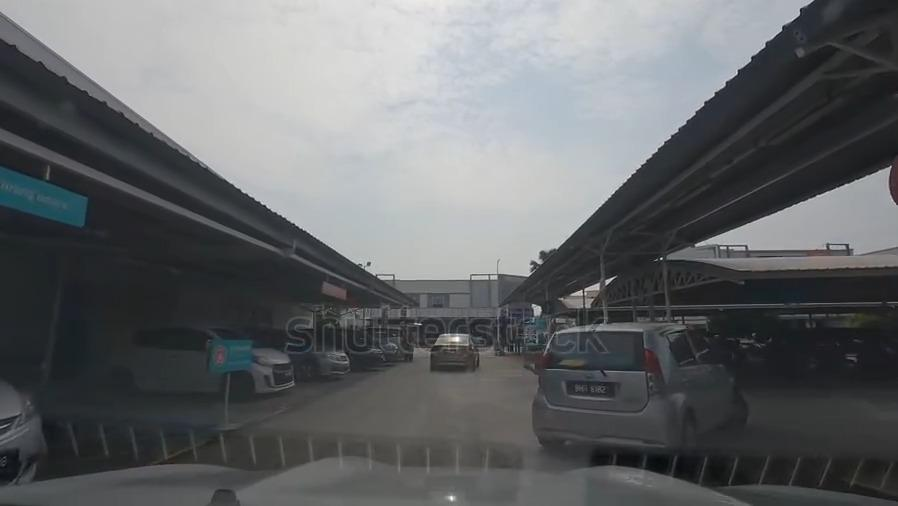car: (545, 321, 751, 456), (118, 331, 291, 399), (0, 372, 48, 480), (272, 327, 347, 379), (326, 329, 384, 370), (432, 331, 479, 369), (368, 327, 399, 360)
person: (404, 334, 415, 363)
wheel: (678, 410, 699, 469), (728, 386, 751, 430), (224, 371, 253, 396), (111, 367, 131, 400), (294, 361, 318, 383)
